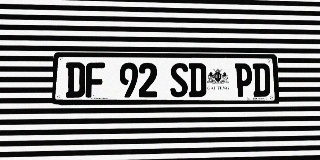2: (139, 63, 157, 97)
9: (119, 63, 138, 97)
D: (66, 62, 85, 98), (189, 63, 206, 97), (253, 63, 270, 97)
F: (85, 62, 105, 98)
P: (235, 63, 253, 97)
S: (170, 63, 188, 97)
